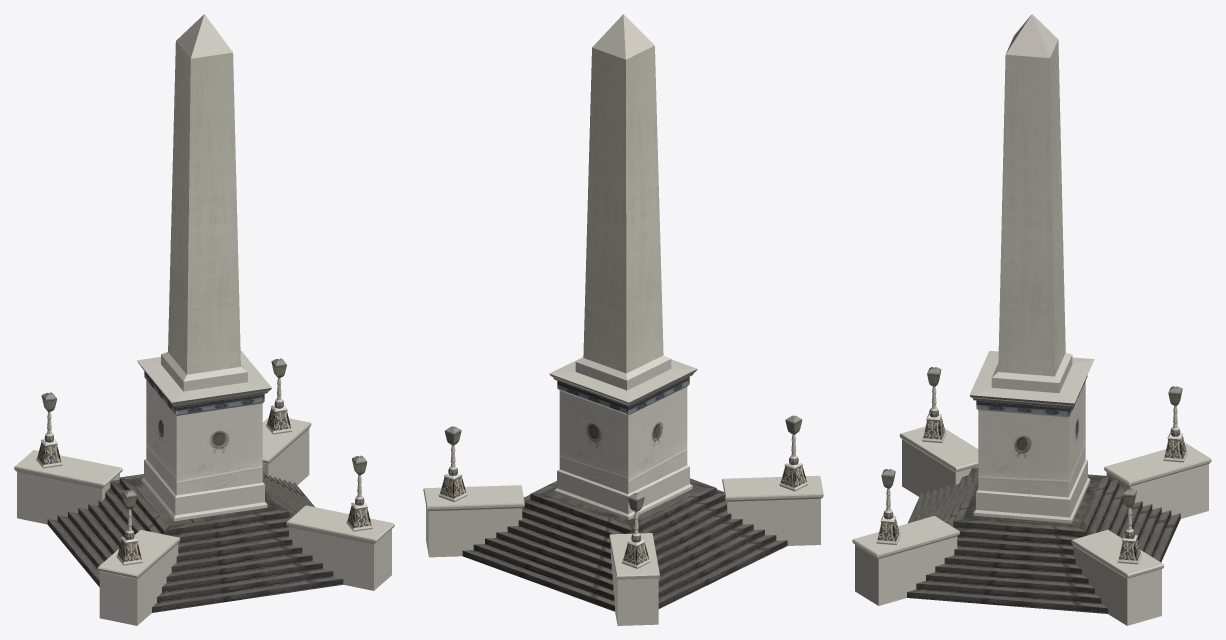
3 views of the same model, side by side, from view 1: azimuth 30°, elevation 25°; view 2: azimuth 150°, elevation 25°; view 3: azimuth 270°, elevation 25° (orthographic).
Visible parts, largest first — view 1: Dalhousie Obelisk; view 2: Dalhousie Obelisk; view 3: Dalhousie Obelisk.
Part boxes in pixels (x1,y1,x2,y2): Dalhousie Obelisk: (14,14,394,625); Dalhousie Obelisk: (423,14,823,625); Dalhousie Obelisk: (852,14,1211,625).
Size of the model in its own units: 10.95 by 18.05 by 10.95.
1 material, 1 textured.
